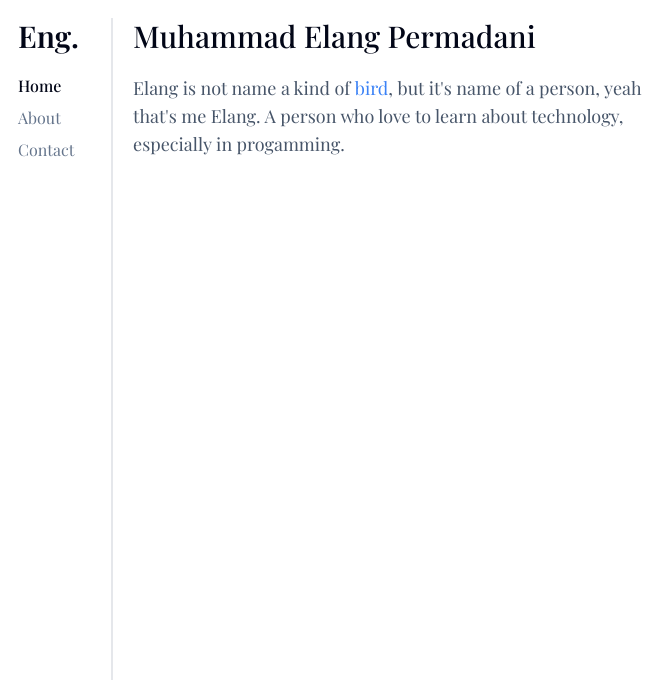
Test: App › should render the about page
This screenshot has width=667, height=680.
Step 1. Click the link "About" → (39, 118), box [18, 107, 61, 128]
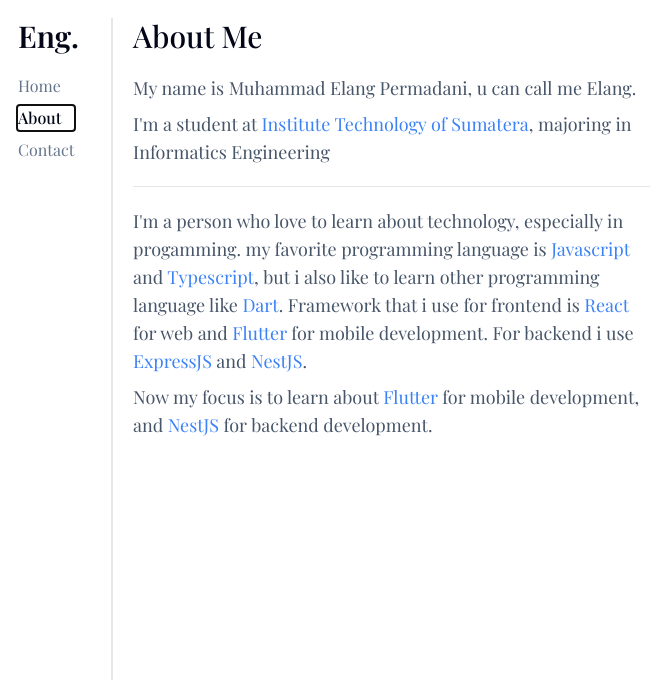
Expected: the heading "About Me" is shown, [133, 16, 262, 56]
